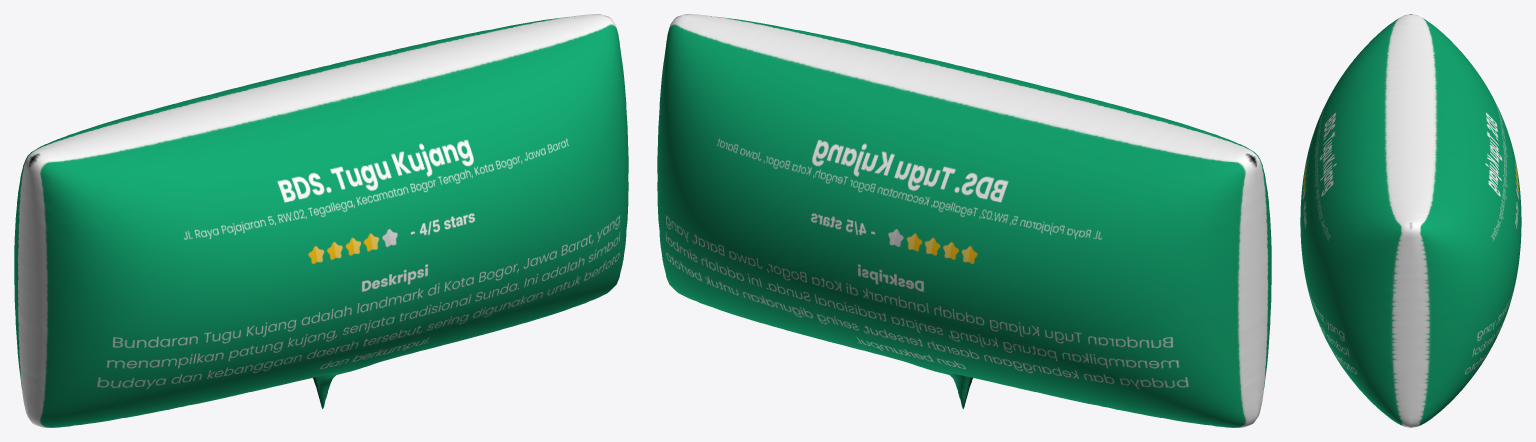
Rendered from bds-tugu-kujang-2.glb.
3 renders of one model, left to right at view 1: azimuth 30°, elevation 25°; view 2: azimuth 150°, elevation 25°; view 3: azimuth 270°, elevation 25°, orthographic. The views are drawn at different scales.
Bounding box in the file's own units: 9.98 × 5.3 × 4.33.
1 material, 1 textured.
